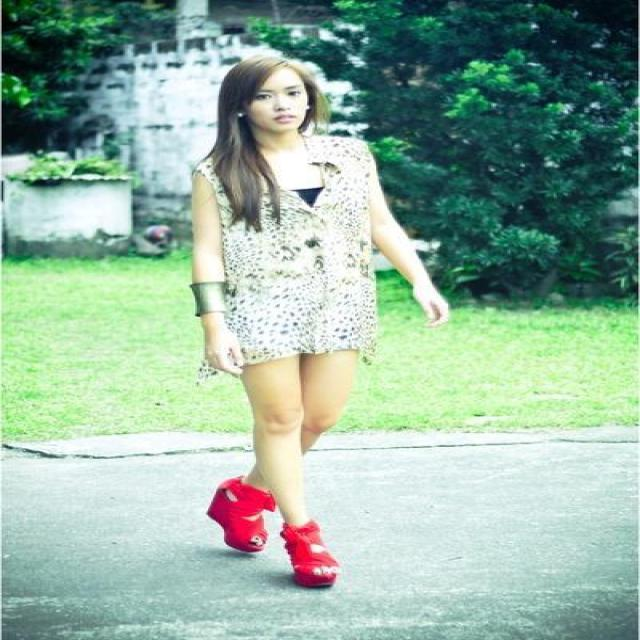dress: (230, 141, 388, 365)
shoe: (211, 480, 341, 588)
